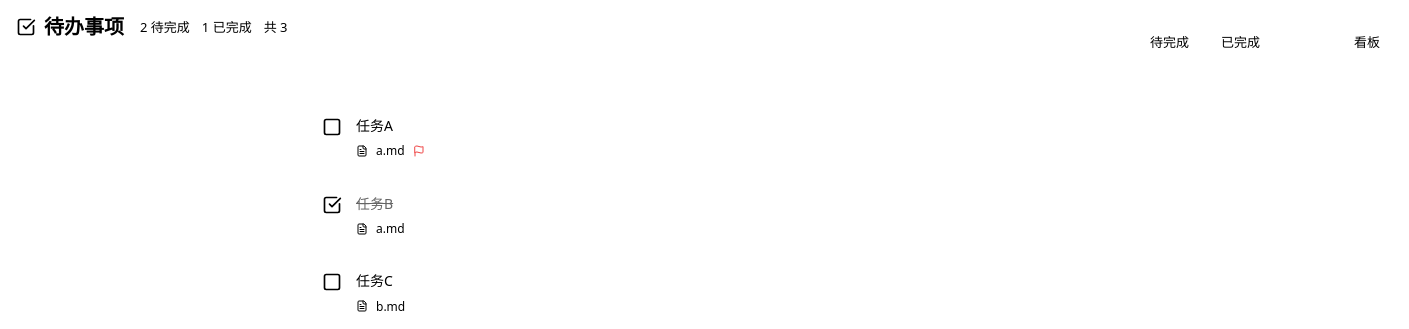
TodosView kanban › 按优先级分组显示 高/中/低/无 四列
This screenshot has width=1409, height=329.
Click the button "看板": click(1367, 42) x1=1342 y1=28 x2=1392 y2=55
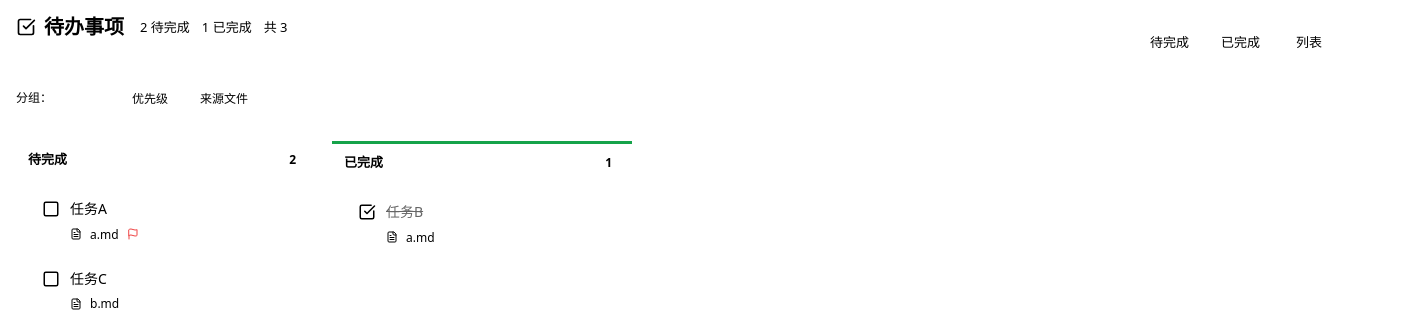
Click the button "优先级": click(150, 98) x1=120 y1=87 x2=180 y2=109
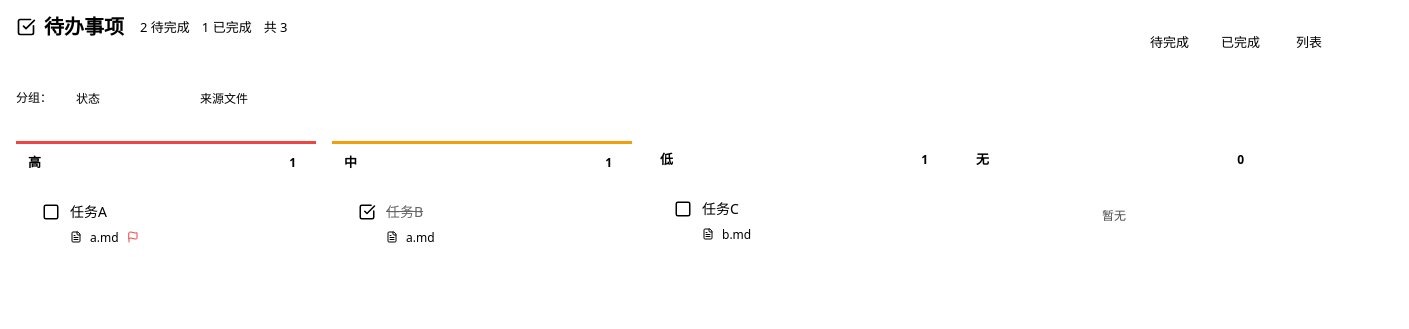
Check: the number of elements with class "kanban-col" is 4, box x1=16 y1=141 x2=316 y2=267; x1=332 y1=141 x2=632 y2=267; x1=648 y1=141 x2=948 y2=264; x1=964 y1=141 x2=1264 y2=253
